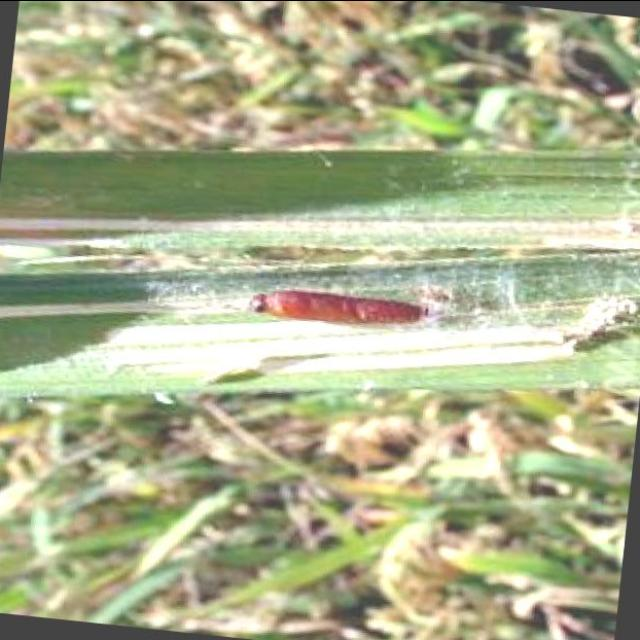leaf folder: (251, 290, 428, 323)
